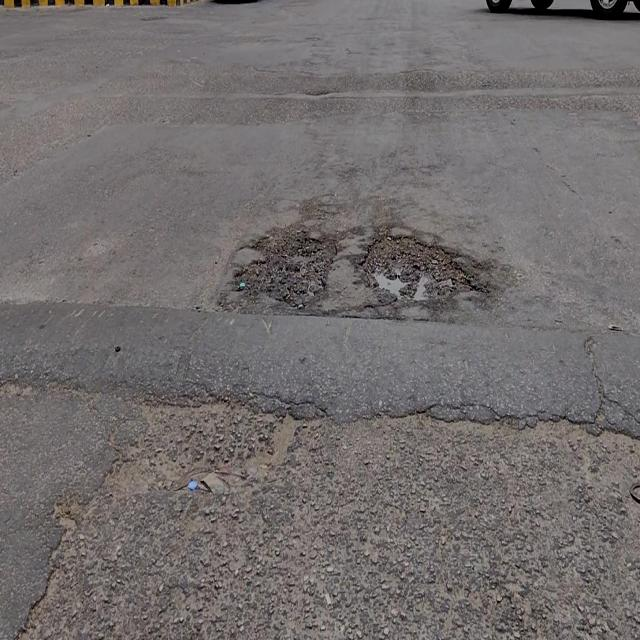Potholes: (361, 233, 479, 308), (235, 222, 336, 308)
